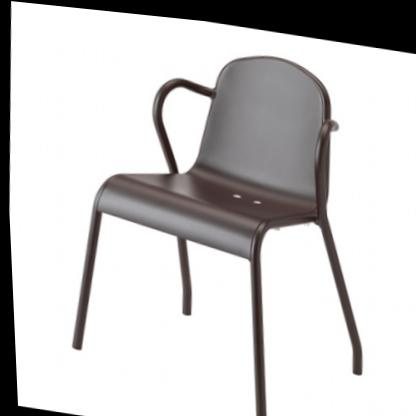Chair: (53, 19, 379, 416)
